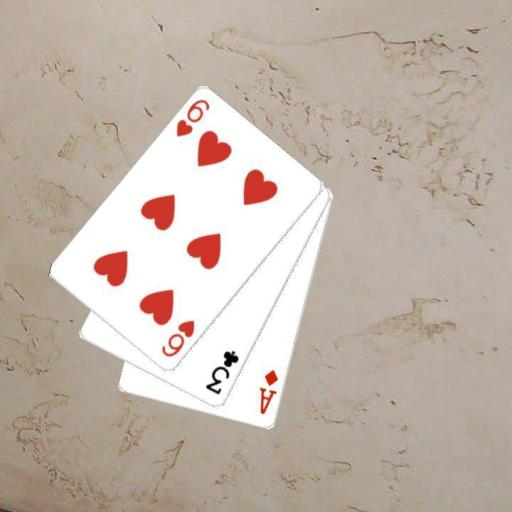card-corner: (202, 348, 241, 397), (173, 96, 212, 139), (158, 317, 196, 359), (256, 367, 280, 416)
